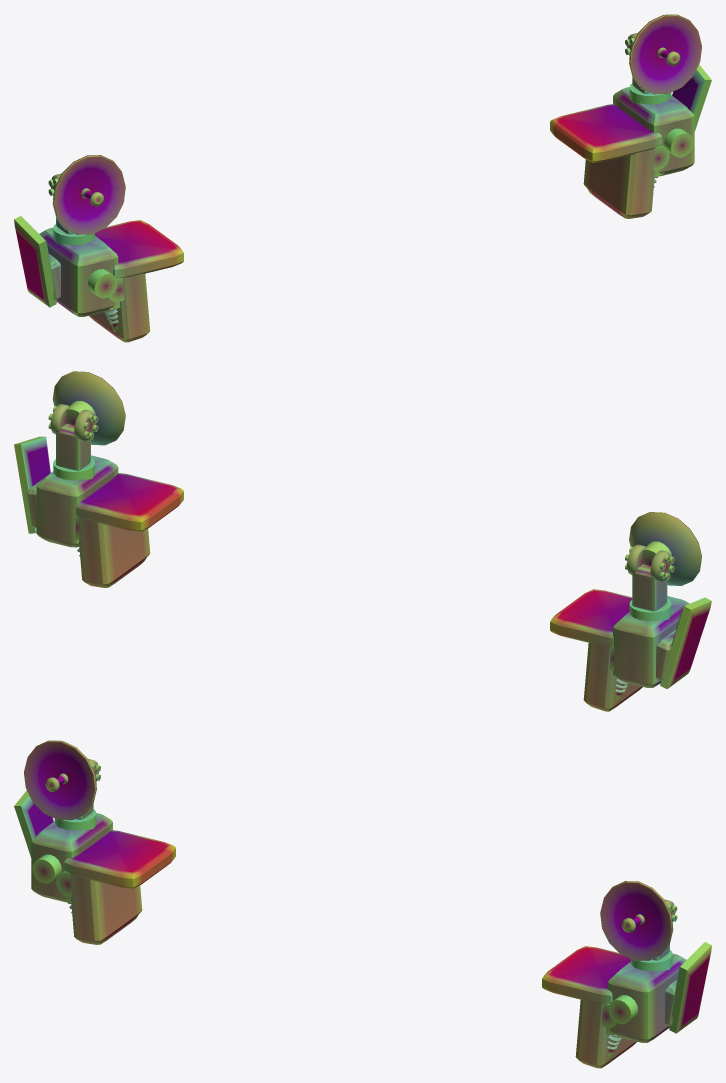
Rendered from llm_gen_shoulder_pods_034_fe3e2e.glb.
The picture shows the model from 3 angles, top to bottom: view 1: azimuth 30°, elevation 25°; view 2: azimuth 150°, elevation 25°; view 3: azimuth 330°, elevation 25°; orthographic projection.
Visible parts, largest first — view 1: adapter_shoulder_yoke_r, adapter_shoulder_yoke_l, parabolic_dish_5_cobalt_anodized_l, parabolic_dish_5_cobalt_anodized_r, radar_housing_0_cobalt_anodized_l, radar_housing_0_cobalt_anodized_r, jammer_fin_8_adapter_dark_l, jammer_fin_8_adapter_dark_r, recon_optic_9_optic_cyan_r, recon_optic_9_optic_cyan_l; view 2: adapter_shoulder_yoke_r, adapter_shoulder_yoke_l, radar_housing_0_cobalt_anodized_r, radar_housing_0_cobalt_anodized_l, parabolic_dish_5_cobalt_anodized_l, parabolic_dish_5_cobalt_anodized_r, jammer_fin_8_adapter_dark_l, jammer_fin_8_adapter_dark_r, adapter_sub_dish_pedestal_dark_2_adapter_dark_l, adapter_sub_dish_pedestal_dark_2_adapter_dark_r, servo_3_servo_accent_r, servo_3_servo_accent_l (+3 smaller); view 3: adapter_shoulder_yoke_l, adapter_shoulder_yoke_r, parabolic_dish_5_cobalt_anodized_r, parabolic_dish_5_cobalt_anodized_l, radar_housing_0_cobalt_anodized_r, radar_housing_0_cobalt_anodized_l, jammer_fin_8_adapter_dark_r, jammer_fin_8_adapter_dark_l, recon_optic_9_optic_cyan_r, recon_optic_9_optic_cyan_l.
Boxes of the visible parts, left/top/right/bottom form: adapter_shoulder_yoke_r: left=550, top=104, right=664, bottom=218; adapter_shoulder_yoke_l: left=89, top=220, right=183, bottom=342; parabolic_dish_5_cobalt_anodized_l: left=52, top=155, right=125, bottom=234; parabolic_dish_5_cobalt_anodized_r: left=629, top=14, right=701, bottom=94; radar_housing_0_cobalt_anodized_l: left=39, top=227, right=118, bottom=316; radar_housing_0_cobalt_anodized_r: left=613, top=87, right=694, bottom=176; jammer_fin_8_adapter_dark_l: left=14, top=216, right=56, bottom=307; jammer_fin_8_adapter_dark_r: left=672, top=64, right=711, bottom=131; recon_optic_9_optic_cyan_r: left=664, top=128, right=693, bottom=157; recon_optic_9_optic_cyan_l: left=88, top=269, right=117, bottom=298; adapter_shoulder_yoke_r: left=76, top=473, right=183, bottom=587; adapter_shoulder_yoke_l: left=550, top=589, right=642, bottom=711; radar_housing_0_cobalt_anodized_r: left=36, top=455, right=118, bottom=547; radar_housing_0_cobalt_anodized_l: left=613, top=596, right=689, bottom=687; parabolic_dish_5_cobalt_anodized_l: left=629, top=512, right=701, bottom=585; parabolic_dish_5_cobalt_anodized_r: left=52, top=371, right=125, bottom=445; jammer_fin_8_adapter_dark_l: left=660, top=597, right=711, bottom=688; jammer_fin_8_adapter_dark_r: left=14, top=436, right=50, bottom=533; adapter_sub_dish_pedestal_dark_2_adapter_dark_l: left=632, top=564, right=667, bottom=611; adapter_sub_dish_pedestal_dark_2_adapter_dark_r: left=56, top=424, right=90, bottom=470; servo_3_servo_accent_r: left=50, top=404, right=96, bottom=441; servo_3_servo_accent_l: left=627, top=544, right=672, bottom=582; adapter_shoulder_yoke_l: left=61, top=830, right=175, bottom=944; adapter_shoulder_yoke_r: left=542, top=946, right=636, bottom=1068; parabolic_dish_5_cobalt_anodized_r: left=600, top=881, right=673, bottom=960; parabolic_dish_5_cobalt_anodized_l: left=24, top=740, right=96, bottom=820; radar_housing_0_cobalt_anodized_r: left=607, top=953, right=686, bottom=1042; radar_housing_0_cobalt_anodized_l: left=31, top=813, right=112, bottom=902; jammer_fin_8_adapter_dark_r: left=669, top=942, right=711, bottom=1033; jammer_fin_8_adapter_dark_l: left=14, top=790, right=53, bottom=857; recon_optic_9_optic_cyan_r: left=608, top=995, right=637, bottom=1024; recon_optic_9_optic_cyan_l: left=32, top=854, right=61, bottom=883.
Bounding box in the file's own units: 112 × 29.43 × 14.35.
